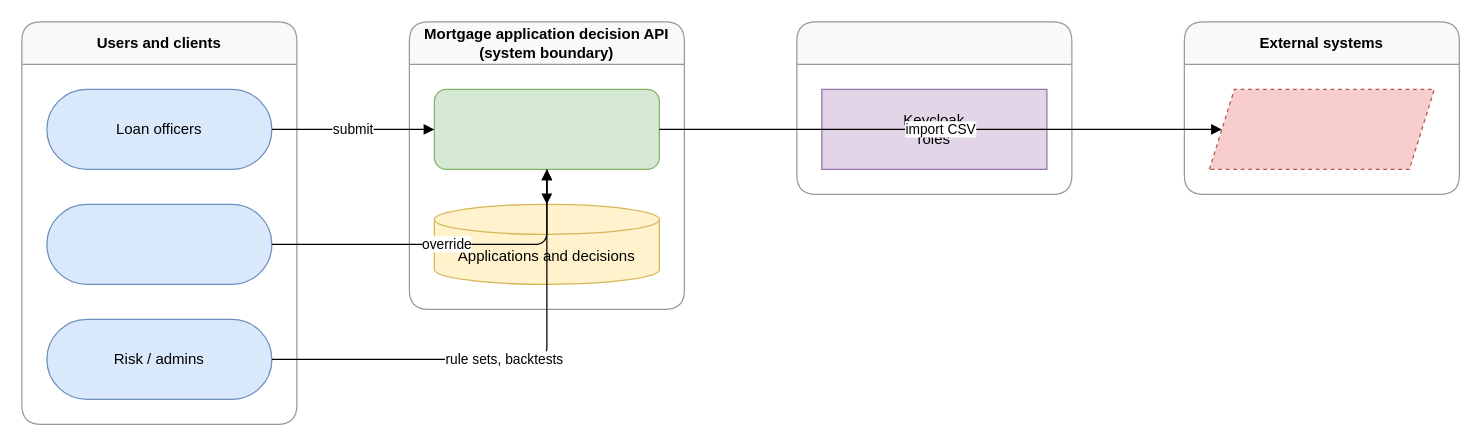
This 1481x446 diagram has some shape labels left out. The shapes that lost their labels are listed below. From the top down, each one's box as (x1, y1, x2, y2) in pixels, then its label:
(796, 21, 1072, 194): Platform
(433, 88, 659, 169): Decision API
(1208, 88, 1434, 169): HMDA data (FFIEC/CFPB)
(46, 203, 272, 284): Underwriters
